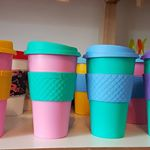cups: (21, 39, 83, 140), (80, 43, 141, 141)
